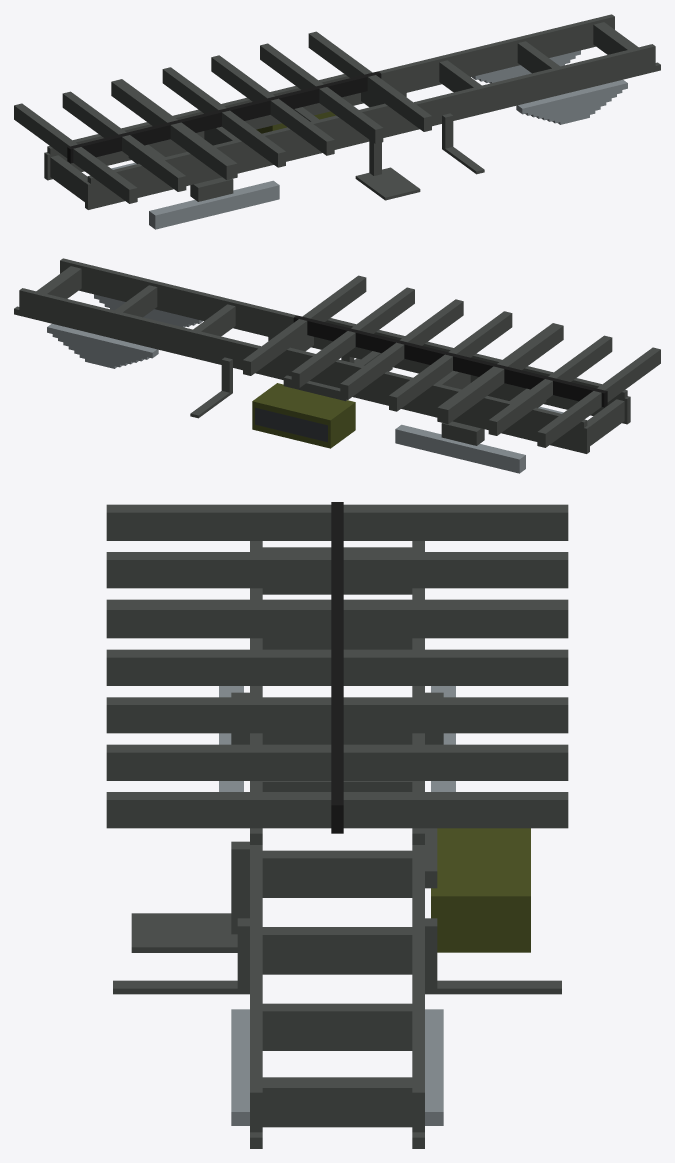
Rendered from military_cargo_truck_chassis.glb.
The picture shows the model from 3 angles, top to bottom: view 1: azimuth 30°, elevation 25°; view 2: azimuth 150°, elevation 25°; view 3: azimuth 270°, elevation 25°; orthographic projection. The views are drawn at different scales.
Visible parts, largest first — view 1: body:compound; view 2: body:compound; view 3: body:compound.
Part boxes in pixels (x1=…): body:compound: x1=14, y1=14, x2=660, y2=229; body:compound: x1=14, y1=258, x2=660, y2=473; body:compound: x1=106, y1=502, x2=568, y2=1148.
Bounding box in the file's own units: 6.62 × 0.875 × 2.31.
